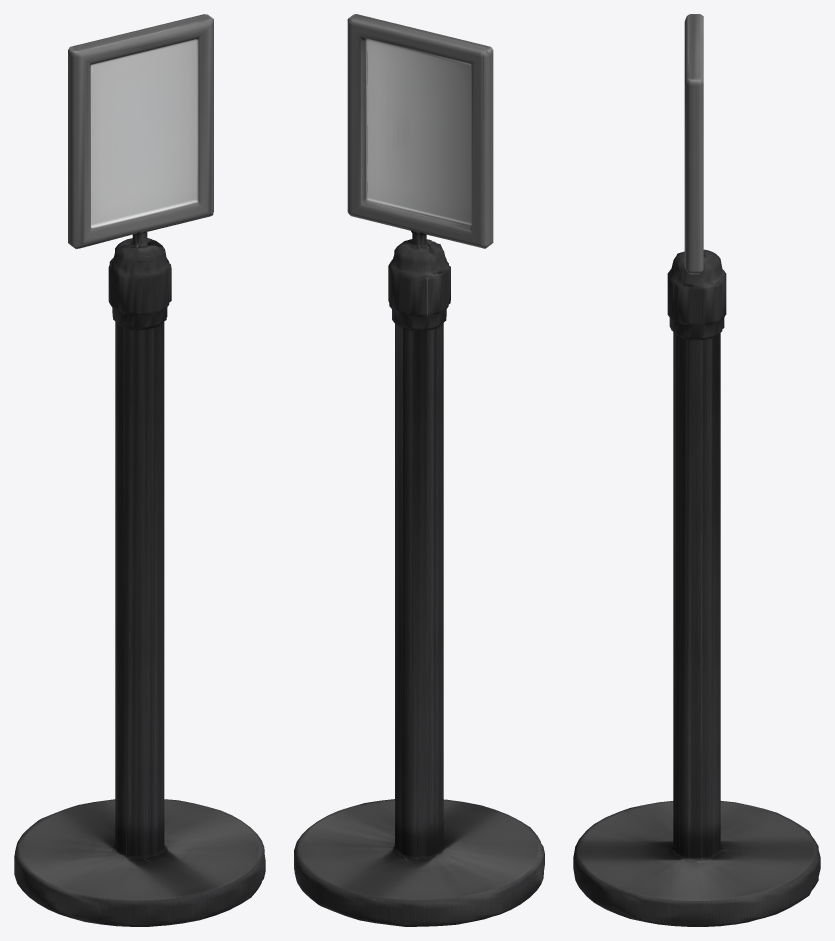
Rendered from Sign_Display_Stanchion_46InchesTall_0215213554_texture.glb.
The picture shows the model from 3 angles, left to right: view 1: azimuth 30°, elevation 25°; view 2: azimuth 150°, elevation 25°; view 3: azimuth 270°, elevation 25°; orthographic projection.
Parts seen in each view (by area): view 1: Mesh_0; view 2: Mesh_0; view 3: Mesh_0.
Boxes of the visible parts, x1=… form: Mesh_0: x1=14, y1=14, x2=265, y2=926; Mesh_0: x1=294, y1=14, x2=544, y2=926; Mesh_0: x1=573, y1=14, x2=820, y2=926.
Size of the model in its own units: 0.3143 by 1.17 by 0.3143.
1 material, 1 textured.
